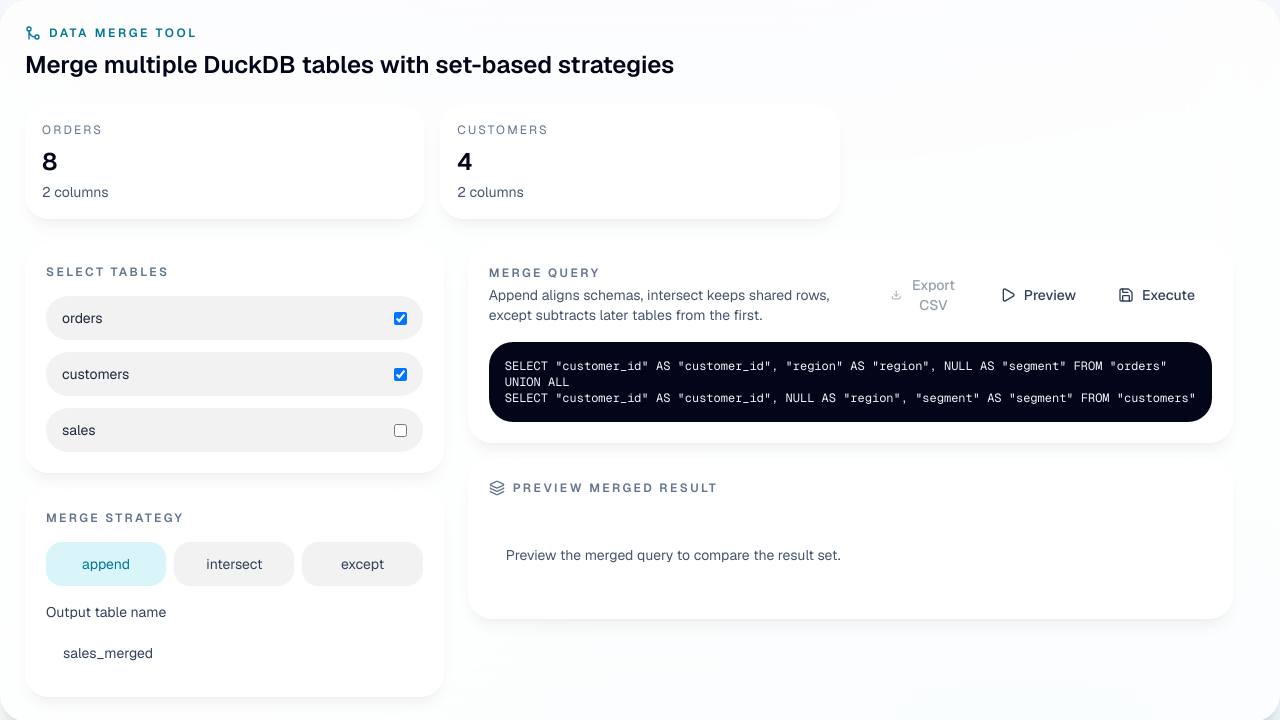
Test case: DataMergeTool › executes the merge and reports the created table name
The image size is (1280, 720).
Expected: the heading "Merge multiple DuckDB tables with set-based strategies" is shown, [25,49,674,80]
Replace the text in the field showing "sales_merged" with "executive_merge" at {"x": 234, "y": 653}, box [46,630,423,676]
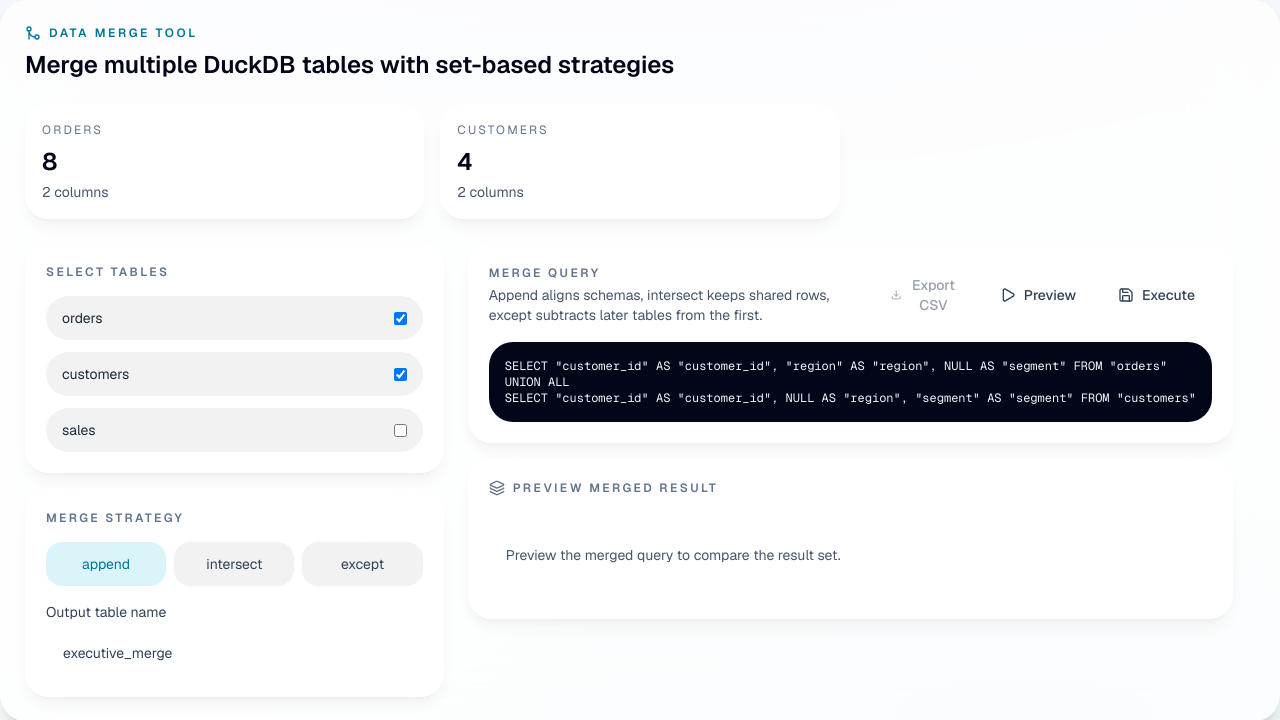
Click the button "Execute".
click(1156, 295)  # box [1101,264,1212,326]
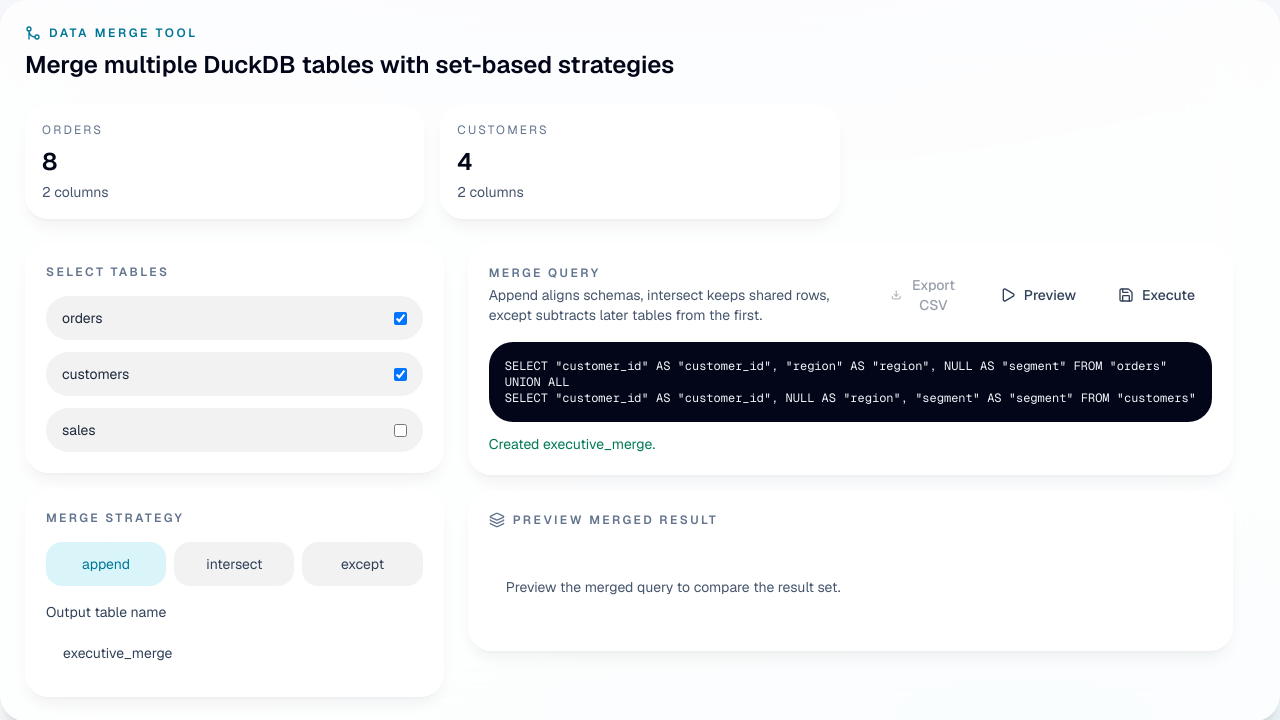
Now the text "Created executive_merge." is shown, box [489,435,655,453]
